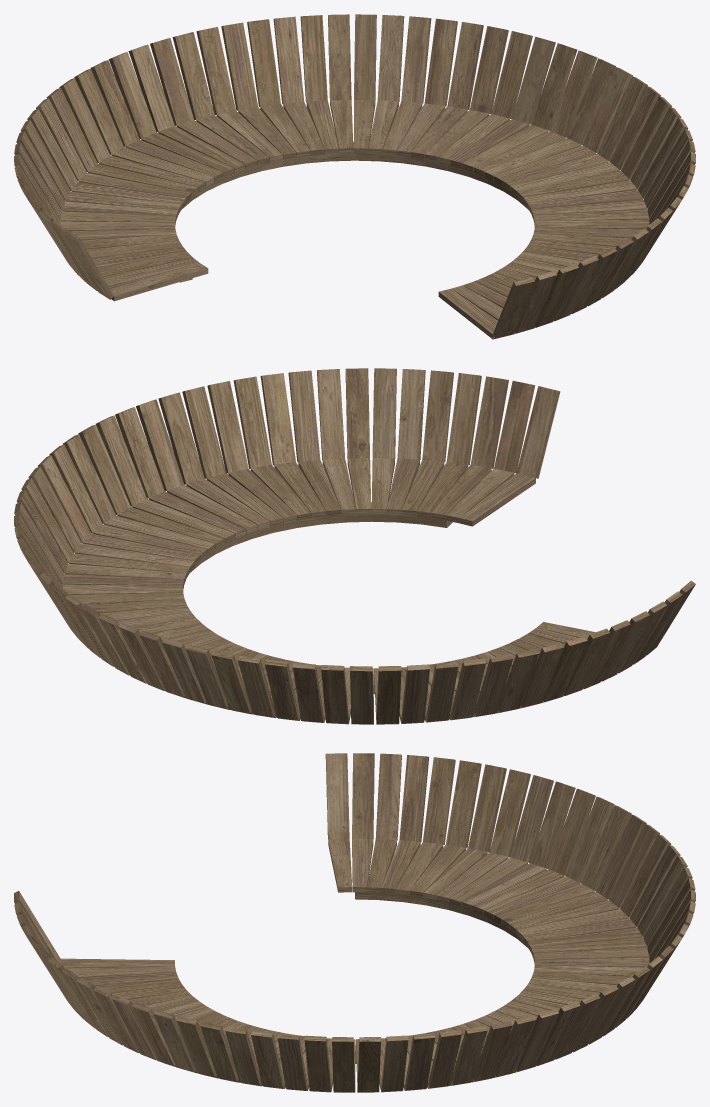
The model's file is hammock3Defoult1.gltf.
3 views of the same model, one above another, from view 1: azimuth 30°, elevation 25°; view 2: azimuth 150°, elevation 25°; view 3: azimuth 270°, elevation 25° (orthographic). The views are drawn at different scales.
Parts seen in each view (by area): view 1: hammock3Defoult1; view 2: hammock3Defoult1; view 3: hammock3Defoult1.
Part boxes in pixels (<box>): hammock3Defoult1: <box>14,14,695,339</box>; hammock3Defoult1: <box>14,368,695,724</box>; hammock3Defoult1: <box>14,753,695,1092</box>.
Size of the model in its own units: 9.53 by 1.29 by 9.53.
Materials: 1 (1 with a texture image).
